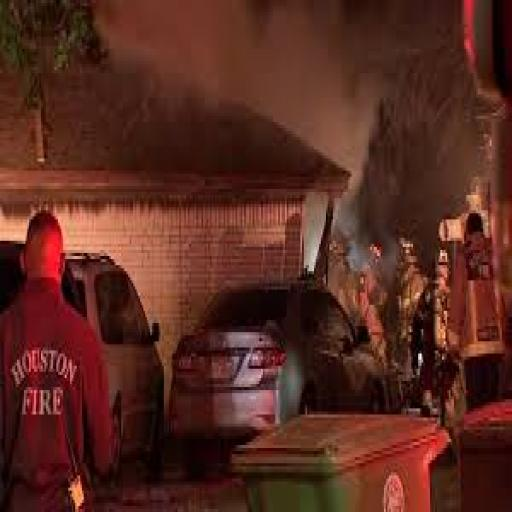smoke: (112, 3, 358, 171)
